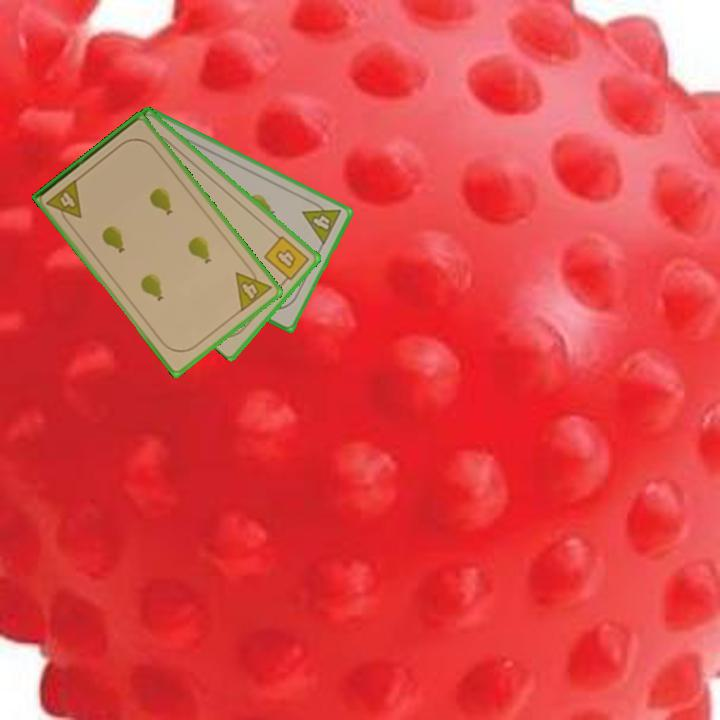4b: (260, 232, 312, 287)
4p: (299, 195, 344, 248), (232, 260, 275, 315), (43, 175, 85, 228)
